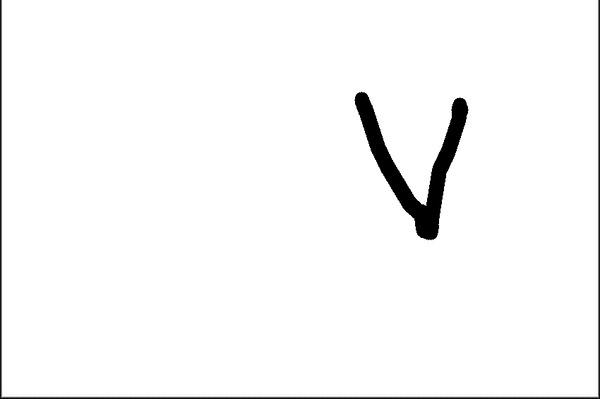V: (353, 82, 491, 242)
